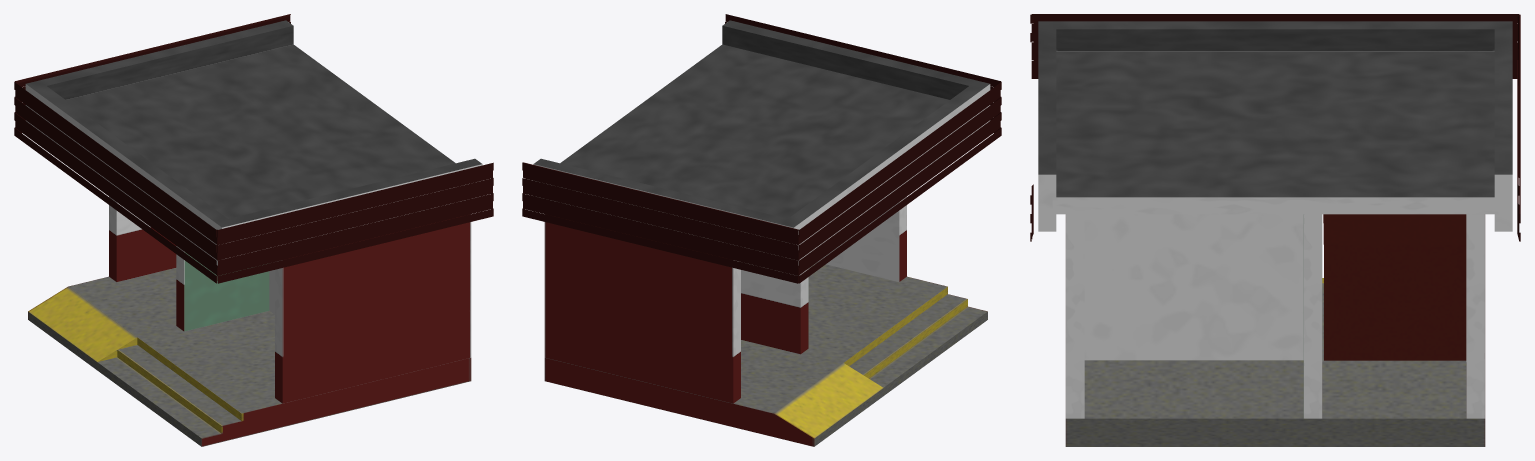
The model's file is Entrance_Box.fbx.
The picture shows the model from 3 angles, left to right: view 1: azimuth 30°, elevation 25°; view 2: azimuth 150°, elevation 25°; view 3: azimuth 270°, elevation 25°; orthographic projection. The views are drawn at different scales.
Parts seen in each view (by area): view 1: Entrance_roof_metal.004, Entrance_roof.004, Entrance_fundament.004, Entrance_right_side.004, Entrance_center.004, Entrance_left_side.004; view 2: Entrance_roof_metal.004, Entrance_roof.004, Entrance_fundament.004, Entrance_left_side.004, Entrance_center.004, Entrance_right_side.004; view 3: Entrance_roof.004, Entrance_fundament.004, Entrance_inside_spliter.004, Entrance_roof_metal.004, Entrance_garbage_door.004, Entrance_left_side.004, Entrance_right_side.004, Entrance_center.004.
Boxes of the visible parts, x1,y1,x2,y2 form: Entrance_roof_metal.004: (14, 14, 493, 283); Entrance_roof.004: (66, 44, 455, 218); Entrance_fundament.004: (28, 268, 471, 446); Entrance_right_side.004: (275, 216, 471, 403); Entrance_center.004: (176, 246, 269, 331); Entrance_left_side.004: (109, 196, 176, 282); Entrance_roof_metal.004: (522, 14, 1001, 283); Entrance_roof.004: (560, 44, 949, 218); Entrance_fundament.004: (544, 262, 987, 446); Entrance_left_side.004: (544, 216, 740, 403); Entrance_center.004: (741, 263, 808, 354); Entrance_right_side.004: (817, 196, 906, 282); Entrance_roof.004: (1052, 52, 1498, 214); Entrance_fundament.004: (1065, 278, 1485, 446); Entrance_inside_spliter.004: (1084, 214, 1303, 360); Entrance_roof_metal.004: (1030, 14, 1520, 241); Entrance_garbage_door.004: (1323, 214, 1466, 360); Entrance_left_side.004: (1466, 214, 1485, 418); Entrance_right_side.004: (1065, 214, 1084, 418); Entrance_center.004: (1303, 214, 1322, 418).
Size of the model in its own units: 617 by 484 by 784.
Materials: 8 (8 with a texture image).
